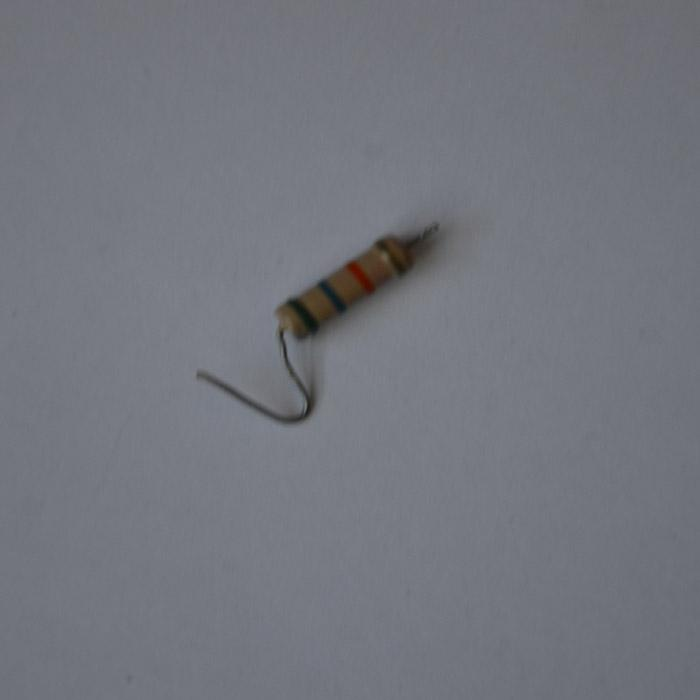resistor: (272, 226, 431, 344)
